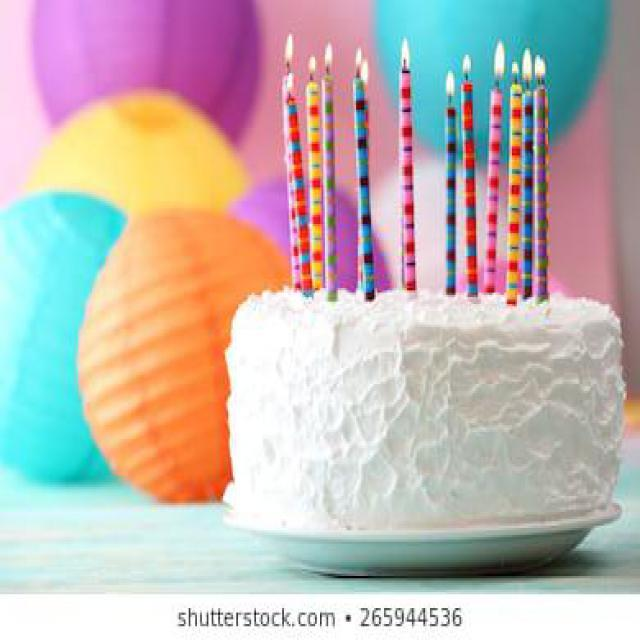Fire: (354, 44, 370, 86), (493, 39, 505, 84), (399, 35, 412, 70), (444, 70, 454, 104), (524, 47, 532, 86), (285, 33, 293, 70), (535, 54, 545, 82), (324, 42, 332, 72), (463, 54, 471, 82), (308, 56, 316, 79), (512, 61, 520, 84), (286, 73, 294, 94)
